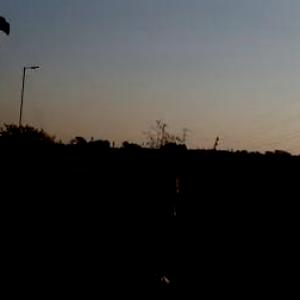follow: (118, 146, 213, 299)
